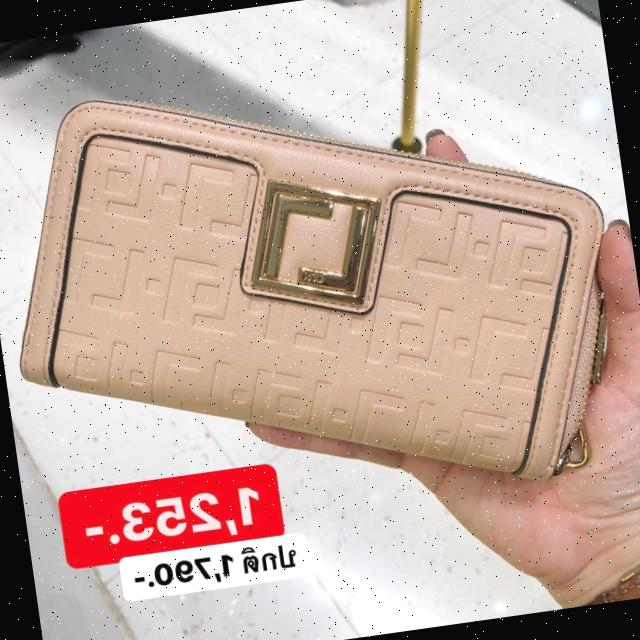Handbag: (0, 30, 639, 549)
